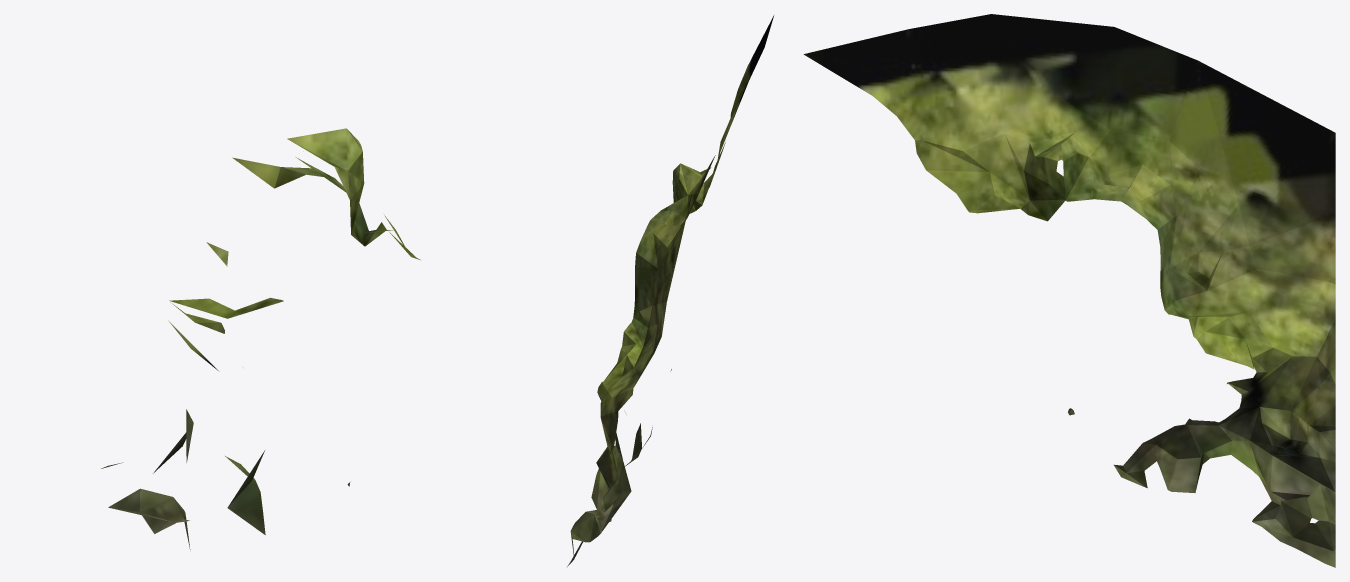
3 renders of one model, left to right at view 1: azimuth 30°, elevation 25°; view 2: azimuth 150°, elevation 25°; view 3: azimuth 270°, elevation 25°, orthographic. The views are drawn at different scales.
Bounding box in the file's own units: 7.34 × 32.99 × 30.49.
1 material, 1 textured.
